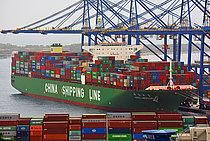Ship: (5, 37, 199, 115)
